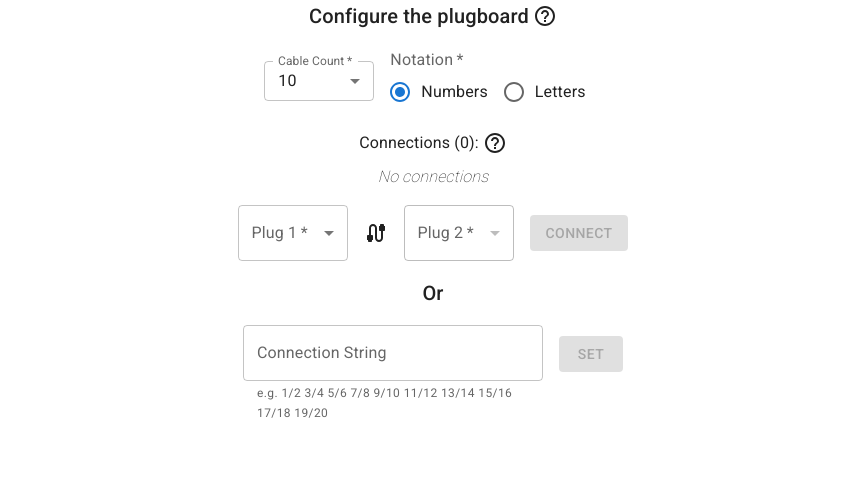
it: EnigmaPlugboard › Cable tests › Connection string test - numbers
Type "1/22 2/19 3/7 4/12 6/21 8/26 9/14 11/13 15/23 18/24" into the field labelled "Connection String" at (393, 353), box [243,325,543,381]
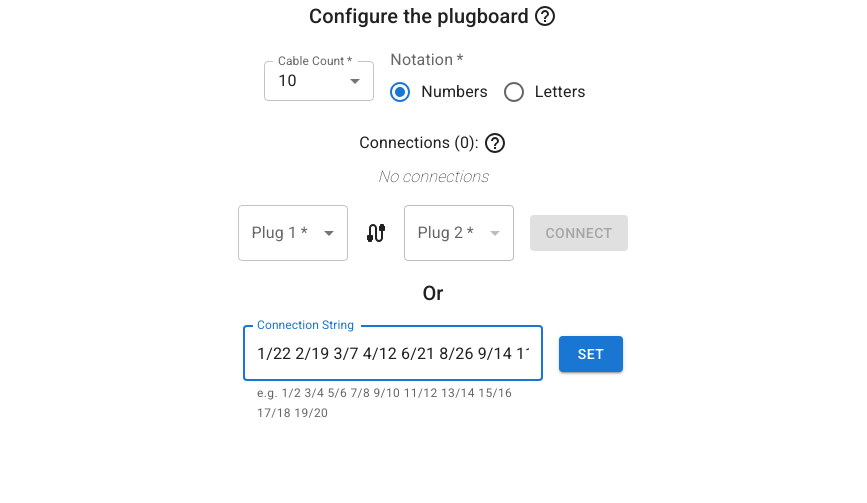
Now the button "Set" is enabled
Click the button "Set" at (591, 354), box [559,336,623,372]
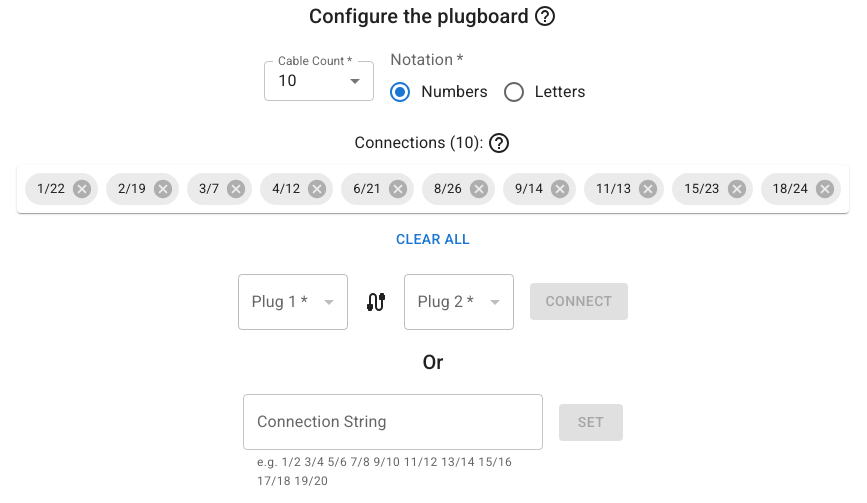
Now the button "1/22" is shown, box [25,173,98,205]
Now the button "2/19" is shown, box [106,173,179,205]
Now the button "3/7" is shown, box [187,173,252,205]
